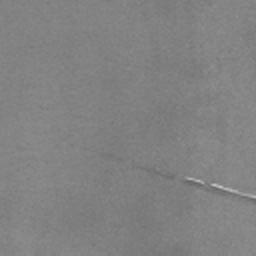Finishing roll printing: (129, 162, 256, 202)
